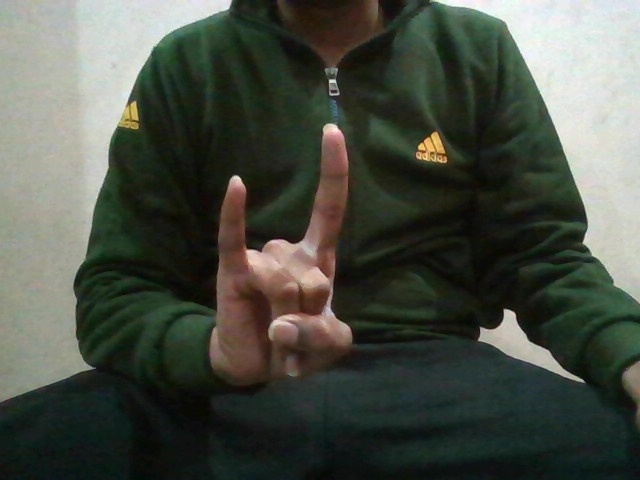U: (202, 121, 384, 381)
